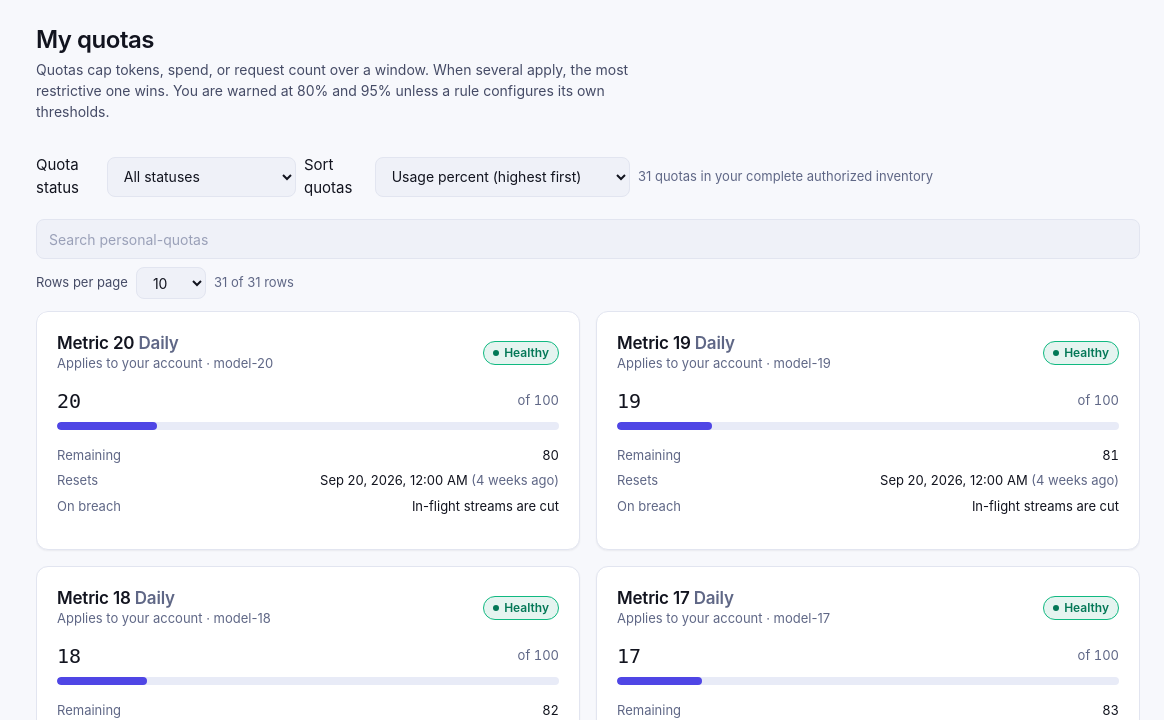
Test: complete grant and personal quota collections › sorts the complete quota inventory before paging, searches off-page cards and filters risk
Check: the text "31 quotas in your complete authorized inventory" is shown, box x1=638 y1=167 x2=933 y2=186
Check: the heading "Metric 20 Daily" is shown, box x1=57 y1=333 x2=179 y2=353
Type "Metric 00" into the search field. click: (588, 239)
box: x1=36 y1=219 x2=1140 y2=259
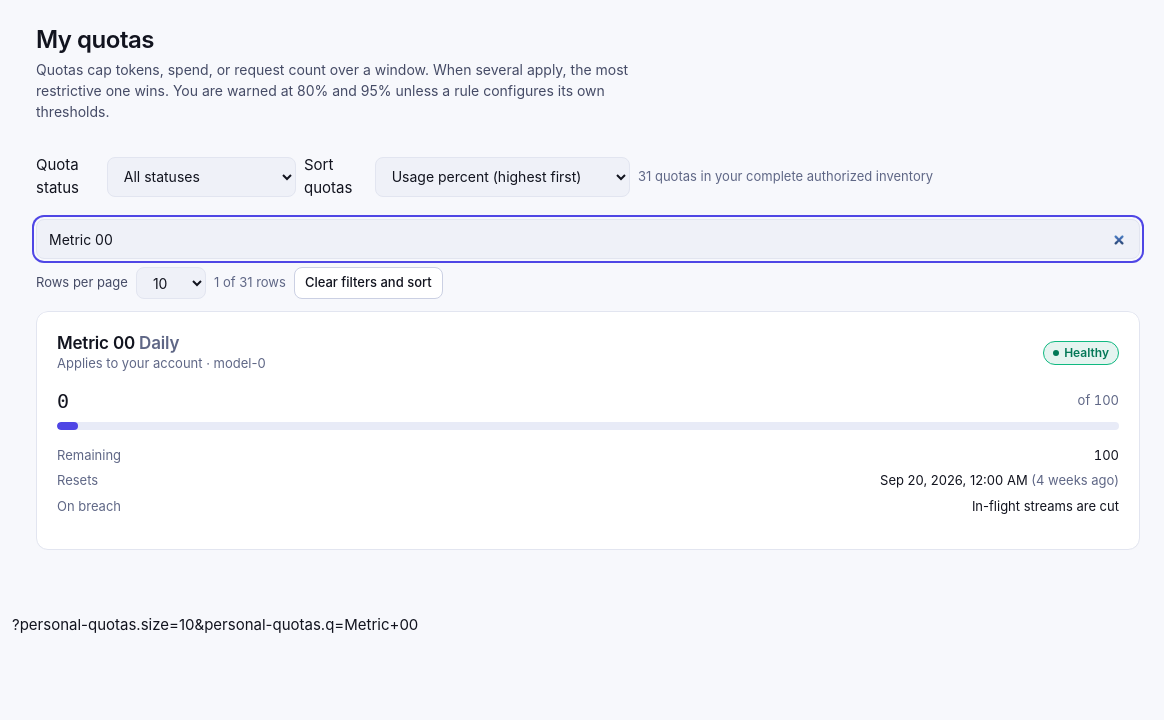
Check: the text "1 of 31 rows" is shown, box x1=214 y1=273 x2=286 y2=293
Clear the search field. click: (588, 239)
box: x1=36 y1=219 x2=1140 y2=259
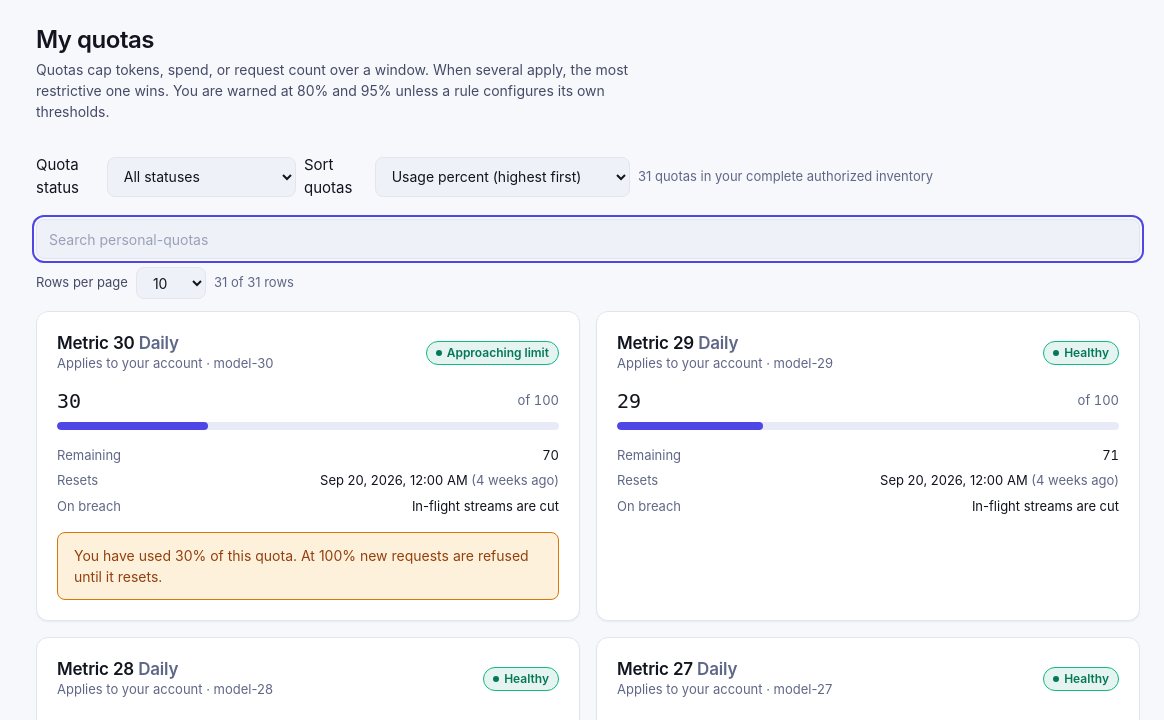
Select "Approaching limit" in the dropdown labelled "Quota status". click: (201, 177)
box: x1=107 y1=157 x2=296 y2=197
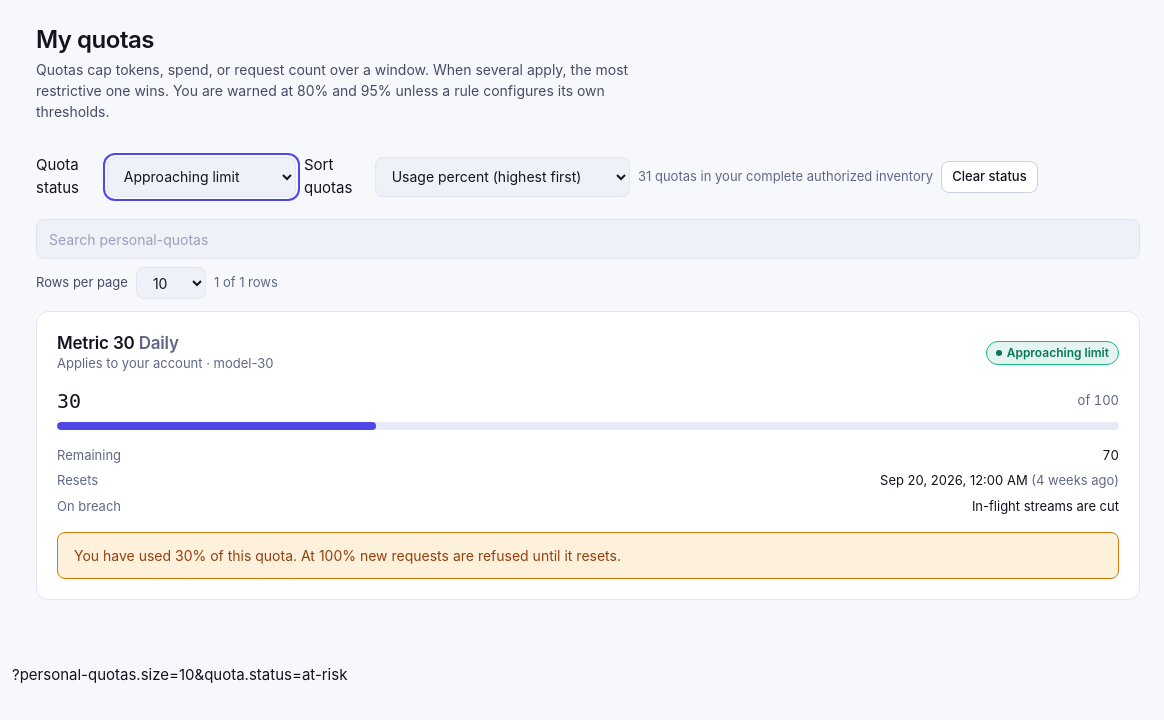
Check: the heading "Metric 30 Daily" is shown, box x1=57 y1=333 x2=179 y2=353
Click the button "Clear status". click: (989, 177)
box: x1=941 y1=161 x2=1038 y2=193
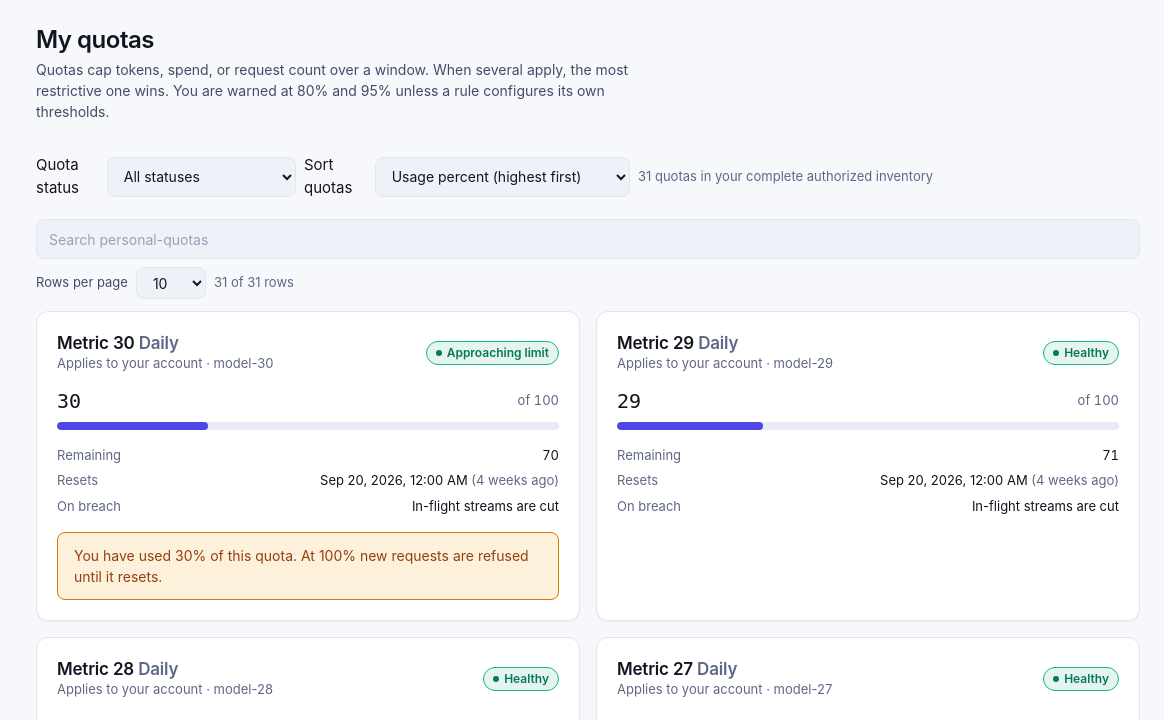
Select "Metric (A–Z)" in the dropdown labelled "Sort quotas". click: (502, 177)
box: x1=375 y1=157 x2=630 y2=197
(page scrolled)
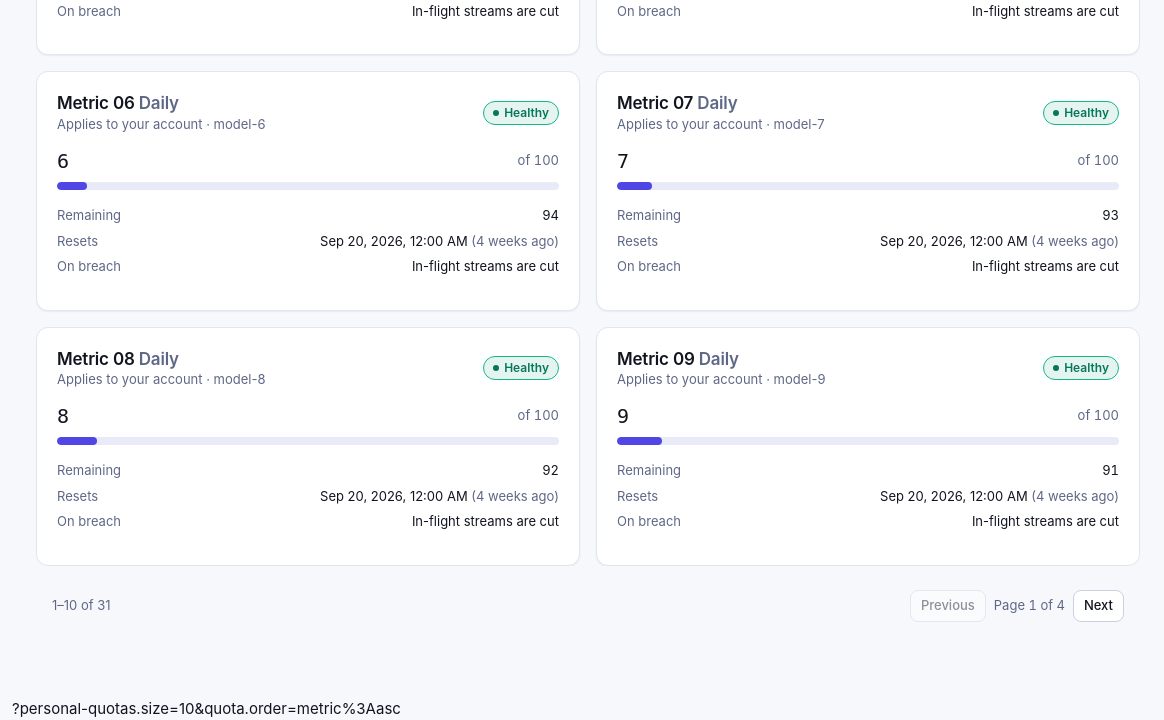
Check: the text with test id "url" shows "quota.order=metric%3Aasc", box x1=12 y1=699 x2=401 y2=718
